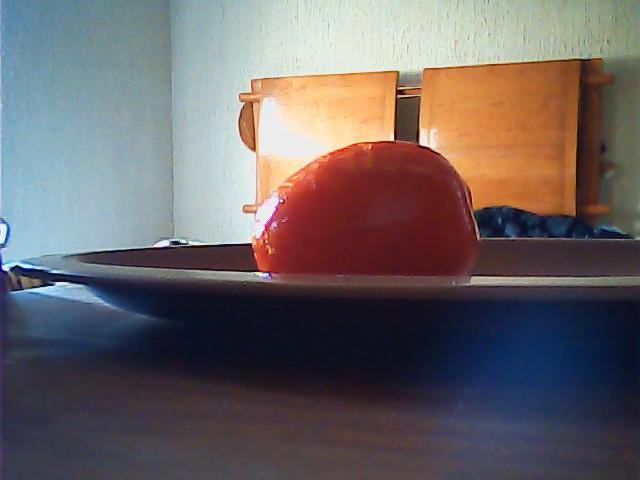maduro: (248, 139, 480, 275)
